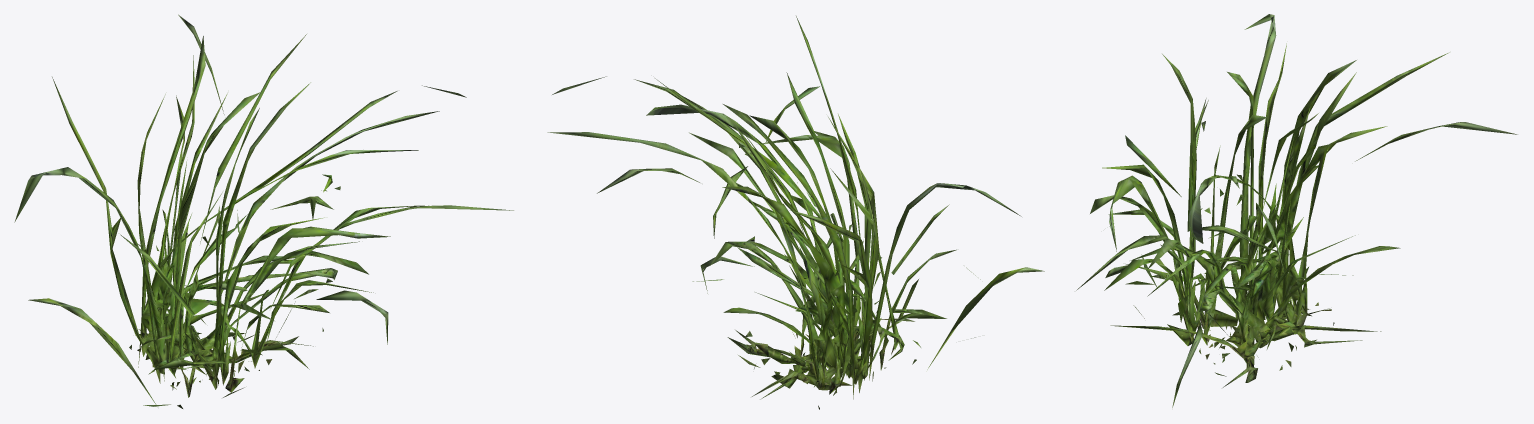
The model's file is grass-tuft.glb.
The picture shows the model from 3 angles, left to right: view 1: azimuth 30°, elevation 25°; view 2: azimuth 150°, elevation 25°; view 3: azimuth 270°, elevation 25°; orthographic projection. The views are drawn at different scales.
Parts seen in each view (by area): view 1: grass-tuft; view 2: grass-tuft; view 3: grass-tuft.
Boxes of the visible parts, x1,y1,x2,y2 form: grass-tuft: (14, 14, 513, 408); grass-tuft: (547, 16, 1044, 409); grass-tuft: (1076, 14, 1517, 407).
Size of the model in its own units: 0.565 by 0.364 by 0.4347.
Materials: 1 (1 with a texture image).
